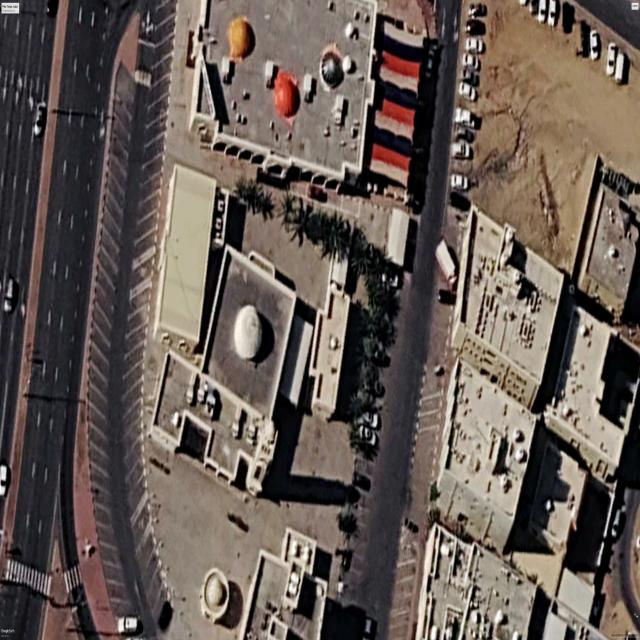mosque: (151, 245, 297, 496)
